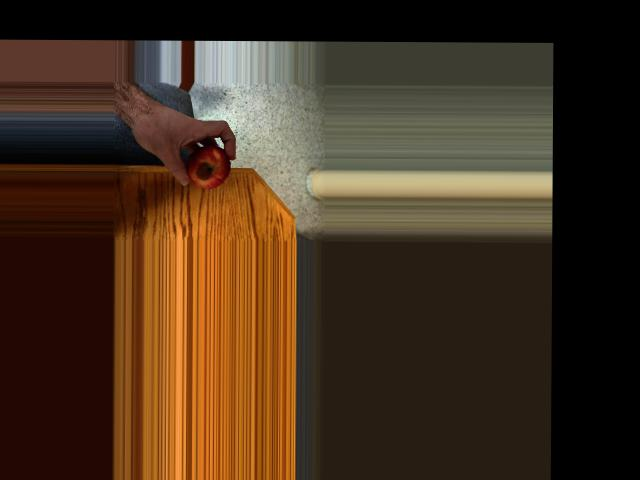apple: (184, 148, 231, 189)
